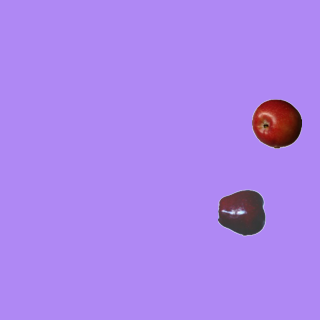Apple Braeburn: (251, 98, 301, 148)
Apple Red Delicious: (217, 187, 267, 237)
